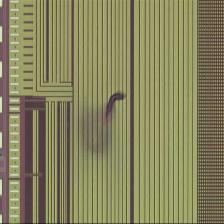PARTICLE: (100, 91, 127, 126)
